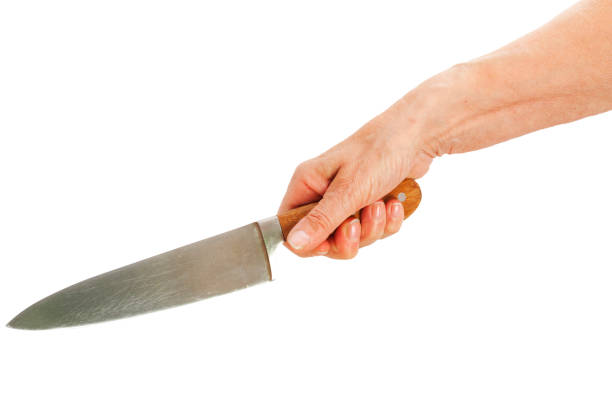knife: (5, 174, 423, 334)
